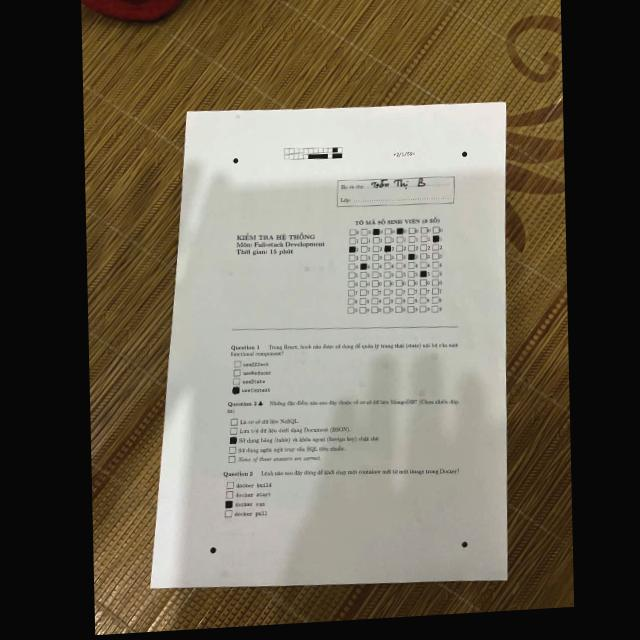Markers: (208, 547, 215, 554), (232, 157, 238, 163), (461, 150, 467, 156), (461, 541, 467, 547)
